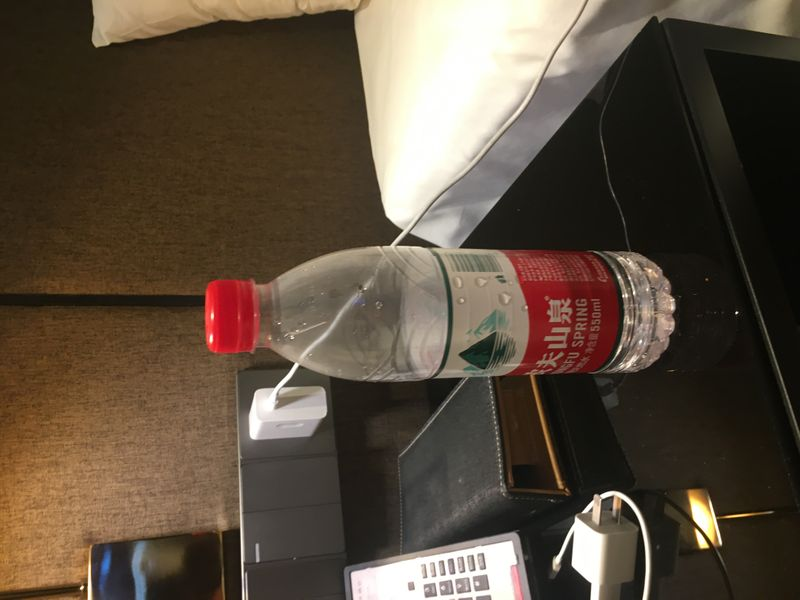5eca67a90202601e8cb8d104: (198, 239, 676, 379)
